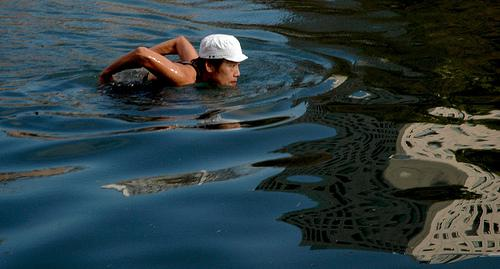human: (93, 31, 247, 92)
